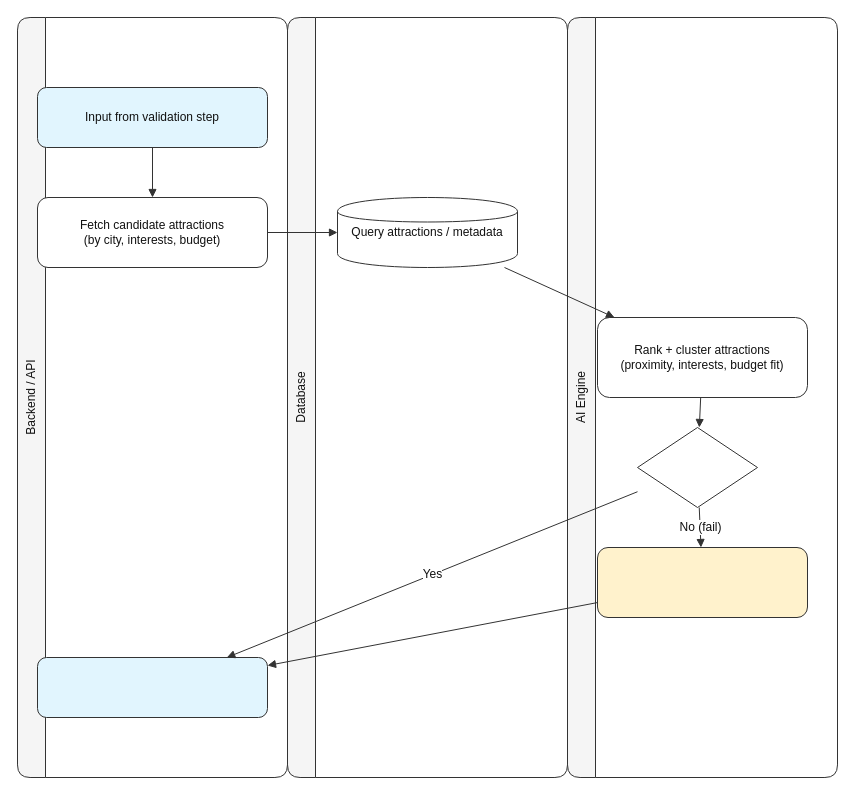
This 855x795 diagram has some shape labels left out. Each missing label, with the centre of its shape:
"AI available?" goes at [697,467].
"Continue to routing estimation" goes at [152,687].
"Fallback itinerary template + partial suggestions" goes at [702,582].
